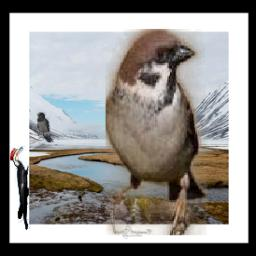Sparrow: (105, 30, 206, 236)
Swallow: (37, 112, 54, 142)
Woodpecker: (10, 145, 31, 230)
